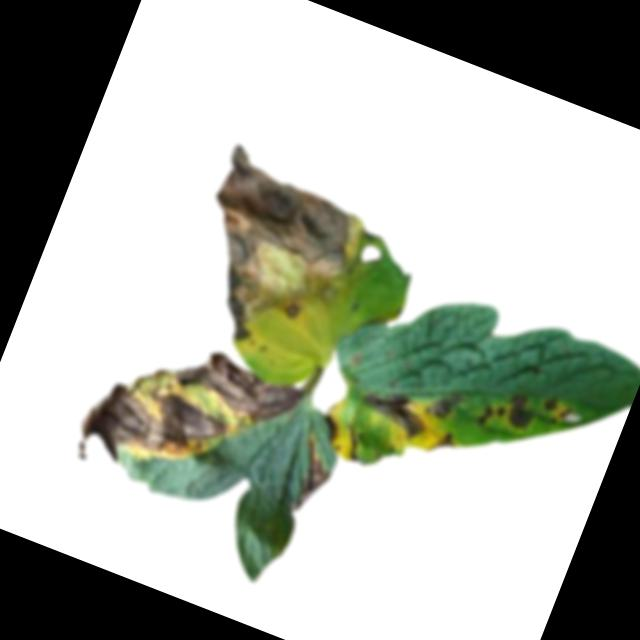Early_blight: (167, 139, 384, 374), (65, 363, 251, 514), (152, 331, 305, 434), (280, 431, 343, 521), (355, 380, 434, 443), (499, 392, 539, 436), (428, 386, 467, 427), (537, 392, 576, 430), (473, 398, 507, 435), (428, 425, 462, 461), (318, 414, 345, 444)
